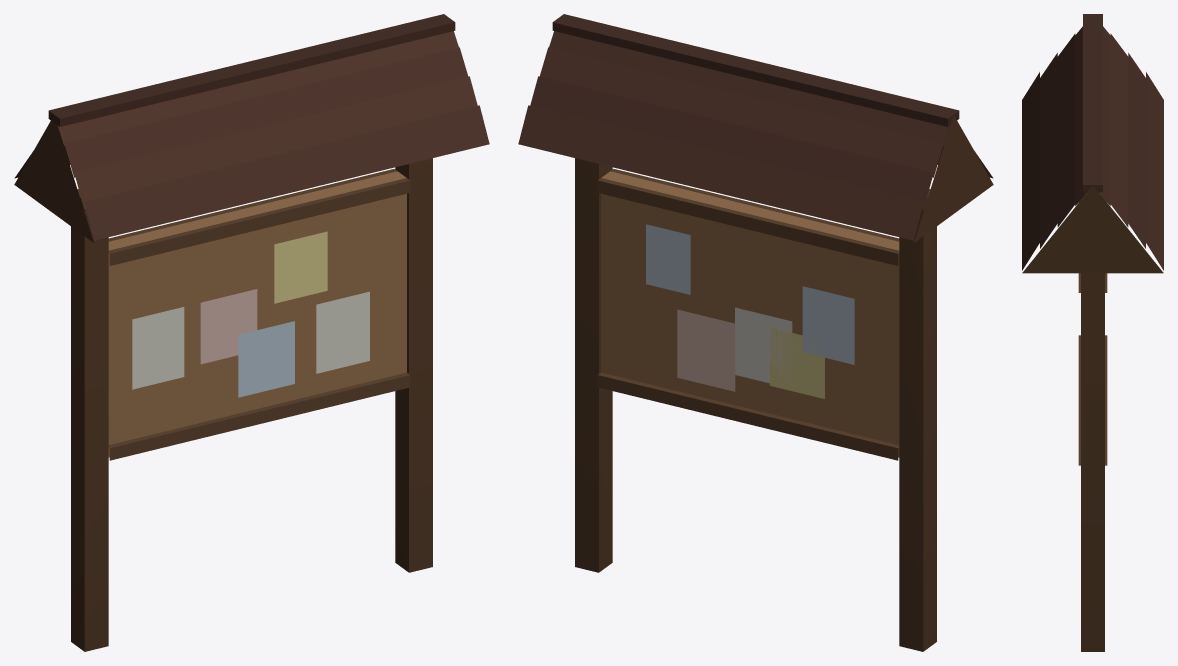
File: board.notice.oak.glb
The picture shows the model from 3 angles, left to right: view 1: azimuth 30°, elevation 25°; view 2: azimuth 150°, elevation 25°; view 3: azimuth 270°, elevation 25°; orthographic projection. The views are drawn at different scales.
Visible parts, largest first — view 1: board_notice_oak; view 2: board_notice_oak; view 3: board_notice_oak.
Boxes of the visible parts, bbox=[...] form: board_notice_oak: bbox=[14, 14, 489, 651]; board_notice_oak: bbox=[518, 14, 993, 651]; board_notice_oak: bbox=[1022, 14, 1163, 651].
Size of what is drawn, in the model's own units: 2 by 2.6 by 0.7.
